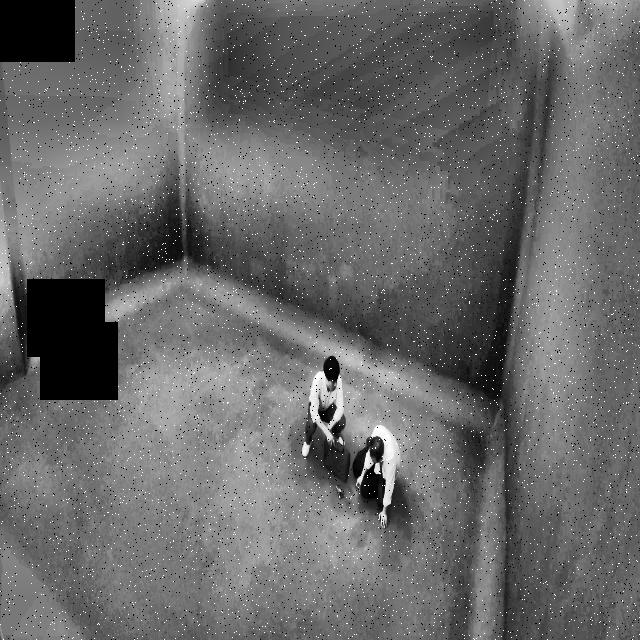assult: (295, 339, 419, 527)
